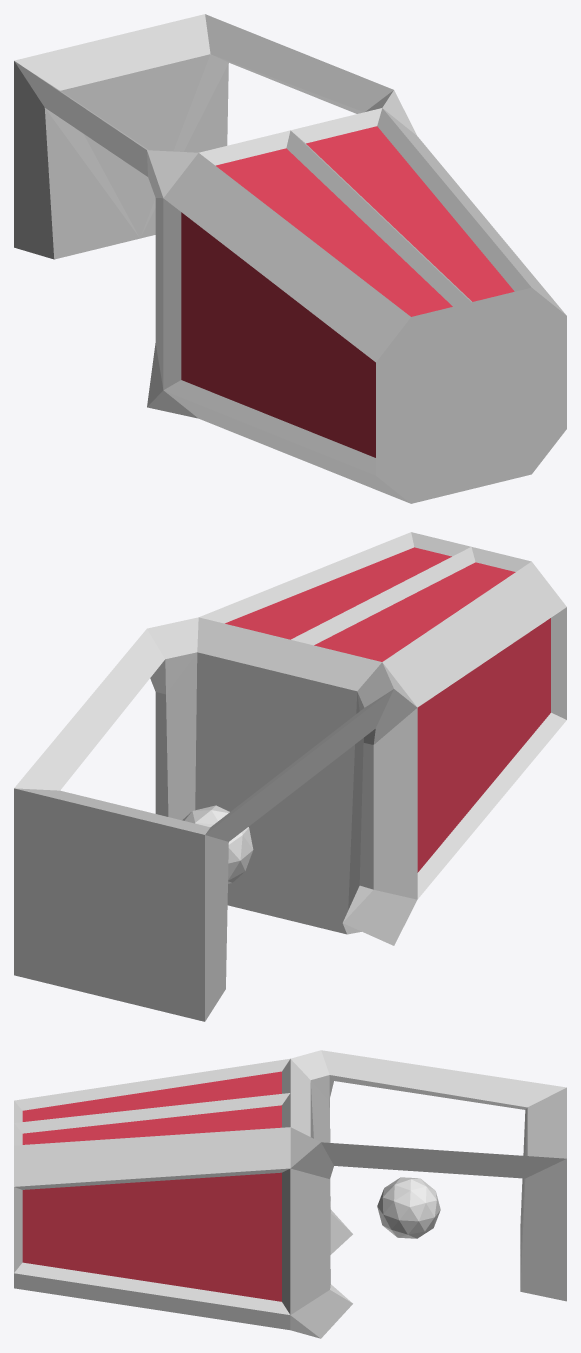
The model's file is antimatterholder.fbx.
3 renders of one model, top to bottom at view 1: azimuth 30°, elevation 25°; view 2: azimuth 150°, elevation 25°; view 3: azimuth 270°, elevation 25°, orthographic. The views are drawn at different scales.
Parts seen in each view (by area): view 1: Cube; view 2: Cube, Icosphere; view 3: Cube, Icosphere.
Part boxes in pixels (bbox=[...]): Cube: bbox=[14, 14, 566, 503]; Cube: bbox=[14, 532, 566, 1021]; Icosphere: bbox=[182, 805, 253, 883]; Cube: bbox=[14, 1050, 566, 1338]; Icosphere: bbox=[377, 1177, 440, 1238].
Bounding box in the file's own units: 200 × 200 × 493.
